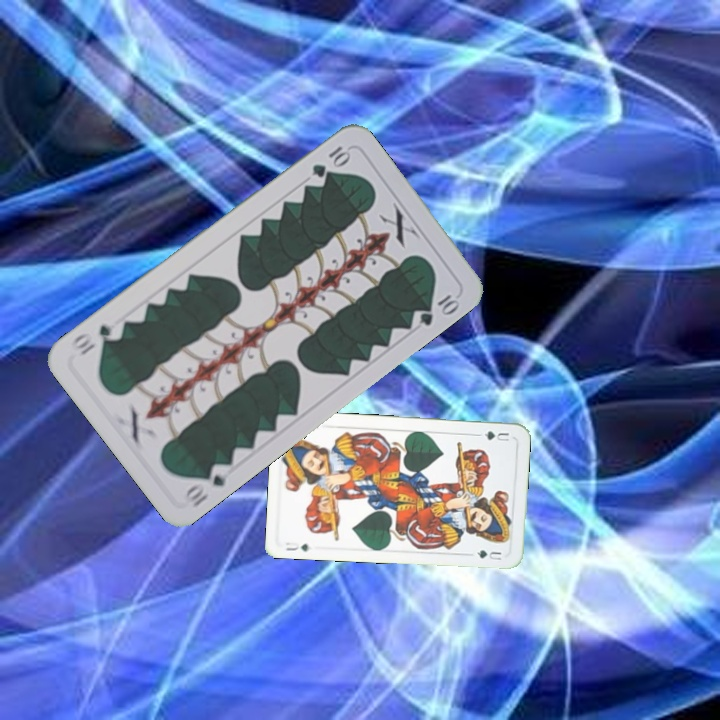G10: (179, 459, 234, 510), (308, 142, 353, 181)
GU: (480, 427, 513, 444), (281, 538, 312, 554)
